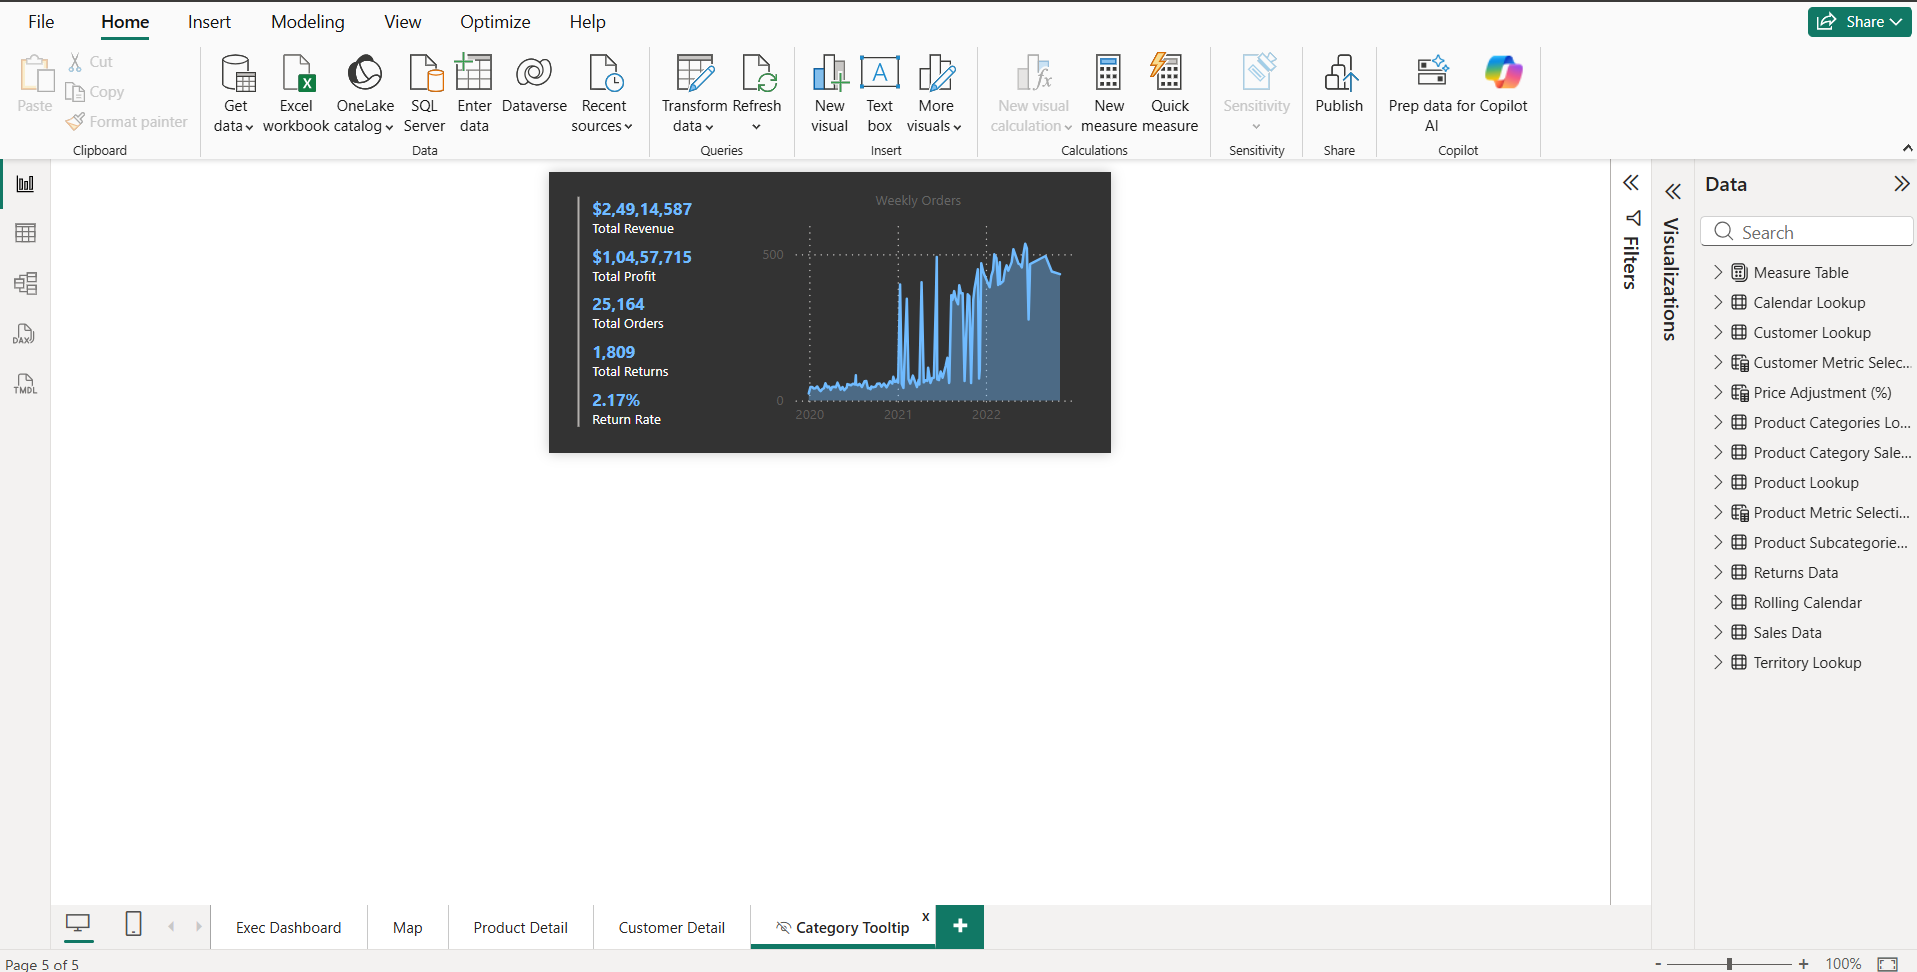

The dashboard page shown, as its layout file describes it:
{"tool":"powerbi","page":{"name":"Category Tooltip","canvas":[450,225],"ordinal":4},"visuals":[{"type":"multiRowCard","fields":{"Values":["Measure Table.Total Revenue","Measure Table.Total Profit","Measure Table.Total Orders","Measure Table.Total Returns","Measure Table.Return Rate"]},"box":[18,15,112,196],"z":0},{"type":"areaChart","title":"Weekly Orders","fields":{"Category":["Calendar Lookup.Start of Week"],"Y":["Measure Table.Total Orders"]},"box":[165,15,261,196],"z":1000}]}

Visuals, with their boxes on the page's 450x225 design canvas (x1, y1, x2, y2). These are canvas units, not pixel positions in the 1917x972 screenshot, which may show the page scaled, cropped or inside an application window:
multiRowCard - Measure Table.Total Revenue x Measure Table.Total Profit: 18,15,130,211
"Weekly Orders" areaChart: 165,15,426,211
